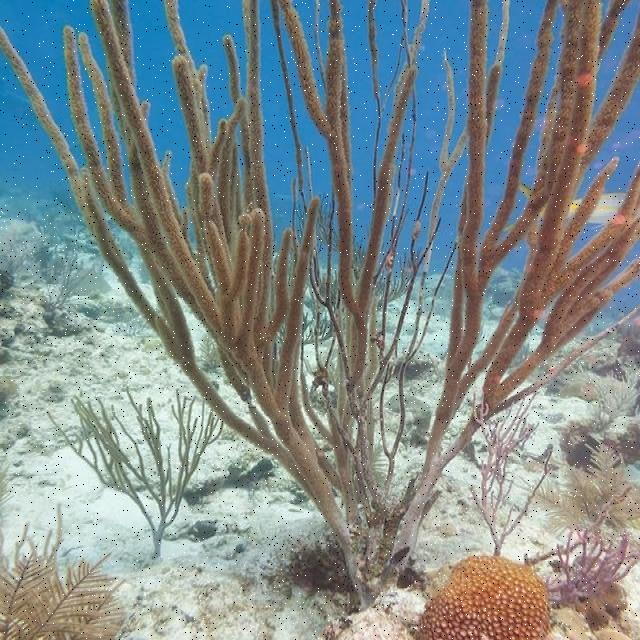reefs: (0, 0, 639, 610), (469, 394, 639, 613), (46, 386, 224, 560), (0, 501, 130, 639), (413, 554, 552, 639)
